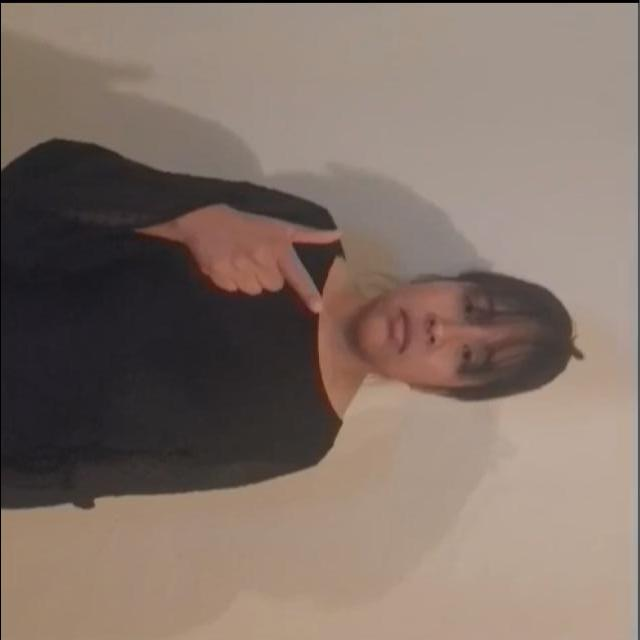G: (177, 204, 360, 321)
